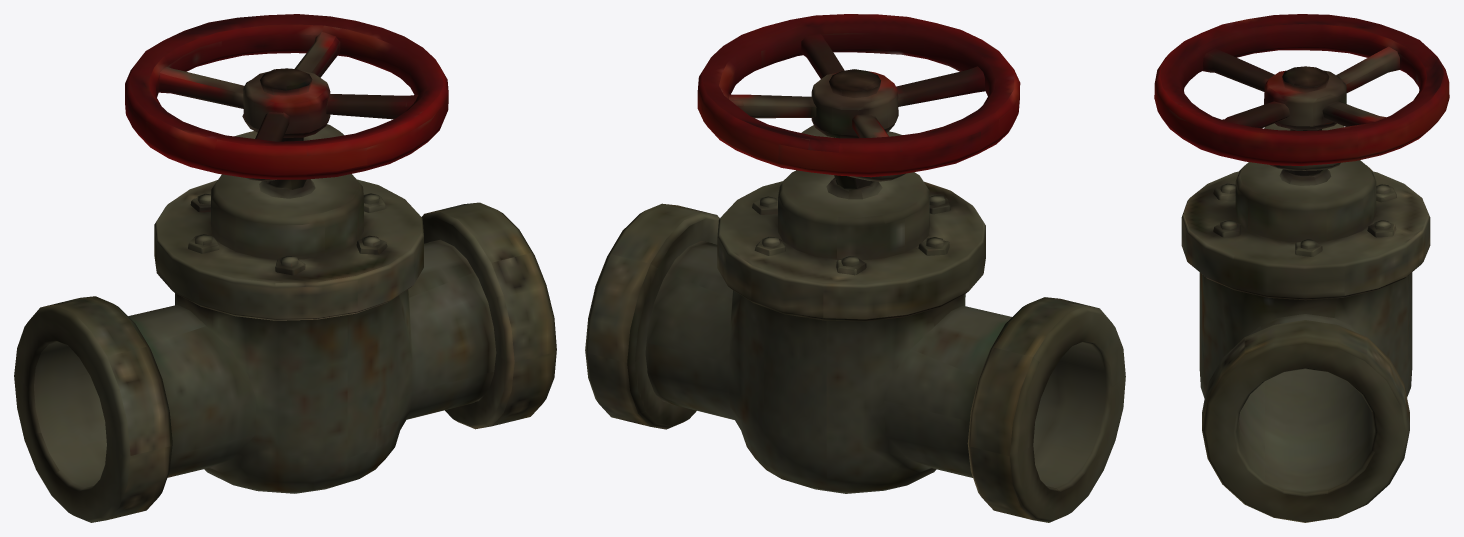
File: pipe_gate_valve.fbx
3 renders of one model, left to right at view 1: azimuth 30°, elevation 25°; view 2: azimuth 150°, elevation 25°; view 3: azimuth 270°, elevation 25°, orthographic. The views are drawn at different scales.
Parts seen in each view (by area): view 1: pipe_gate_valve; view 2: pipe_gate_valve; view 3: pipe_gate_valve.
Boxes of the visible parts, bbox=[...] form: pipe_gate_valve: bbox=[14, 14, 556, 522]; pipe_gate_valve: bbox=[585, 14, 1125, 522]; pipe_gate_valve: bbox=[1154, 14, 1449, 522].
Bounding box in the file's own units: 86.12 × 74.21 × 55.27.
